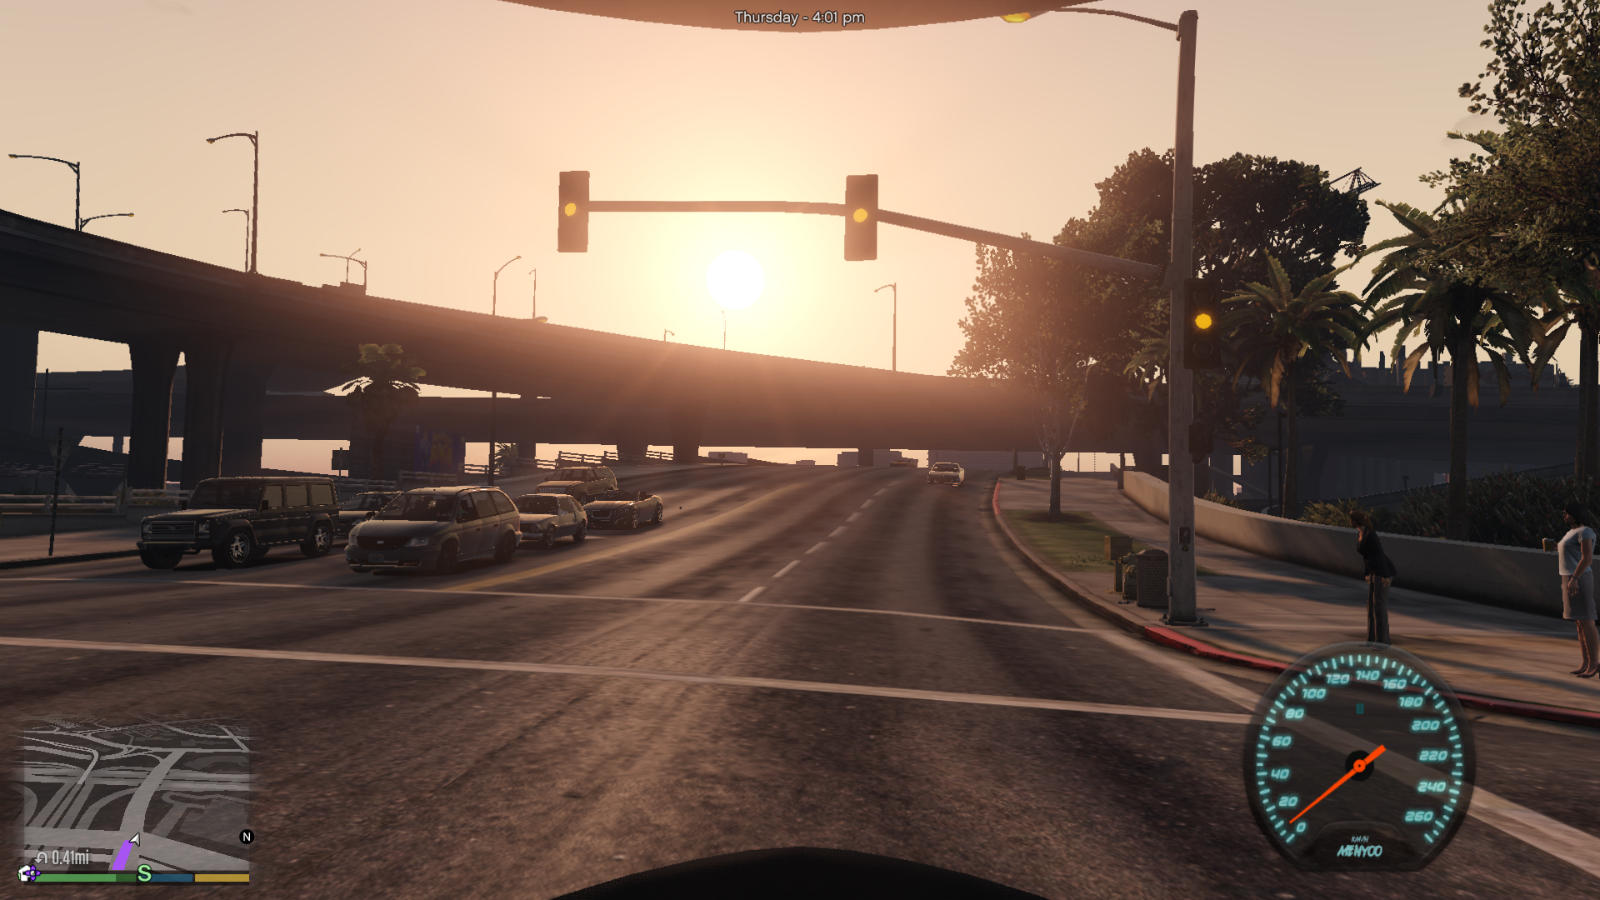yellow: (836, 173, 881, 262), (1179, 277, 1221, 373), (554, 167, 595, 256)
